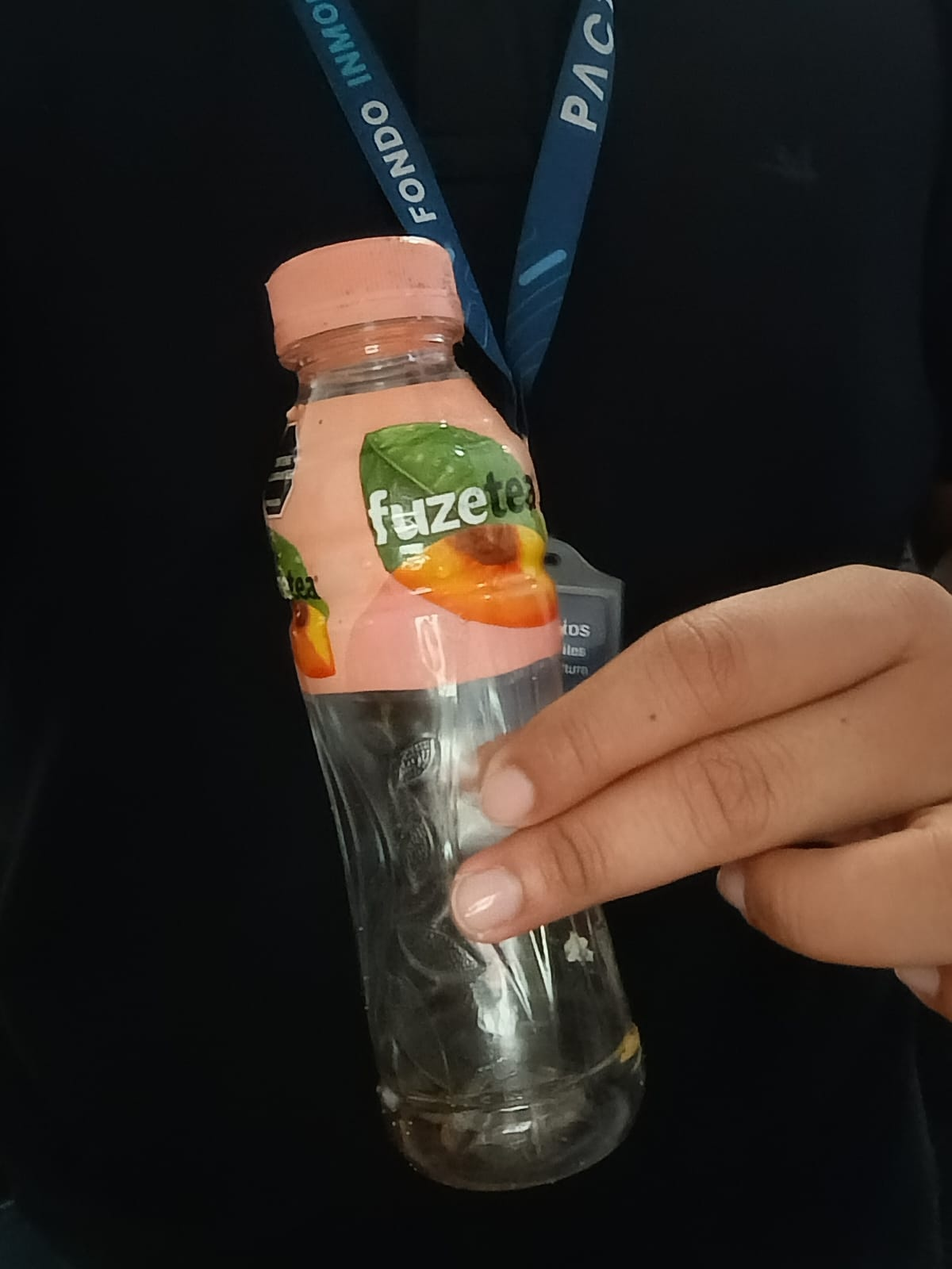Plastico: (258, 234, 644, 1188)
